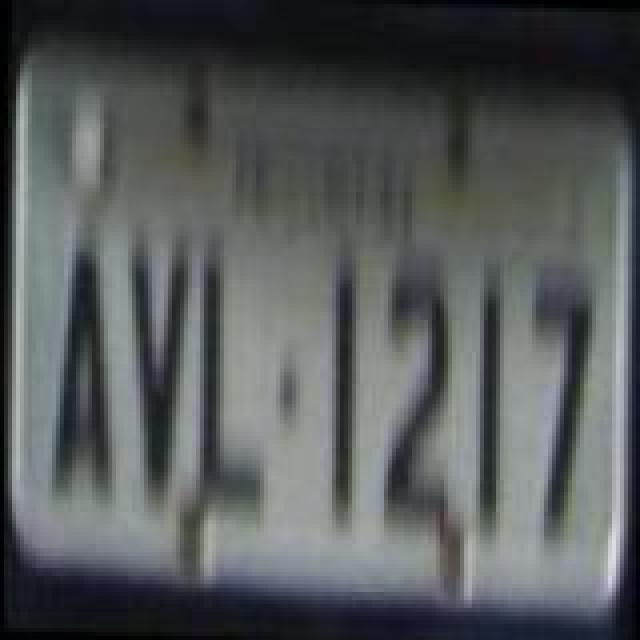1: (470, 266, 506, 538), (324, 262, 356, 522)
2: (376, 272, 456, 532)
7: (522, 268, 598, 548)
A: (48, 244, 116, 500)
L: (194, 242, 274, 506)
V: (122, 240, 194, 492)
